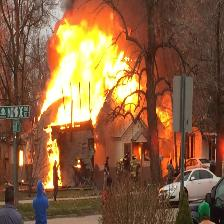fire: (40, 23, 151, 144)
